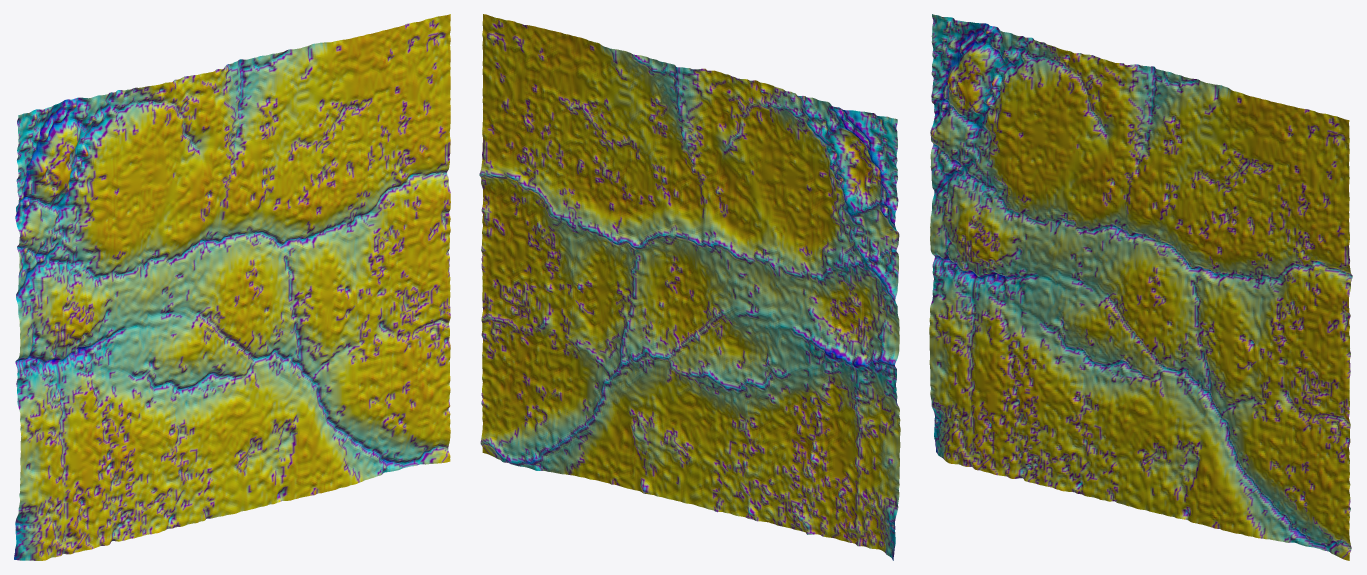
3 renders of one model, left to right at view 1: azimuth 30°, elevation 25°; view 2: azimuth 150°, elevation 25°; view 3: azimuth 330°, elevation 25°, orthographic. The views are drawn at different scales.
Parts seen in each view (by area): view 1: world; view 2: world; view 3: world.
Boxes of the visible parts, x1,y1,x2,y2 form: world: [14, 14, 450, 560]; world: [479, 14, 900, 560]; world: [929, 14, 1352, 560].
Size of the model in its own units: 299 by 299 by 12.
